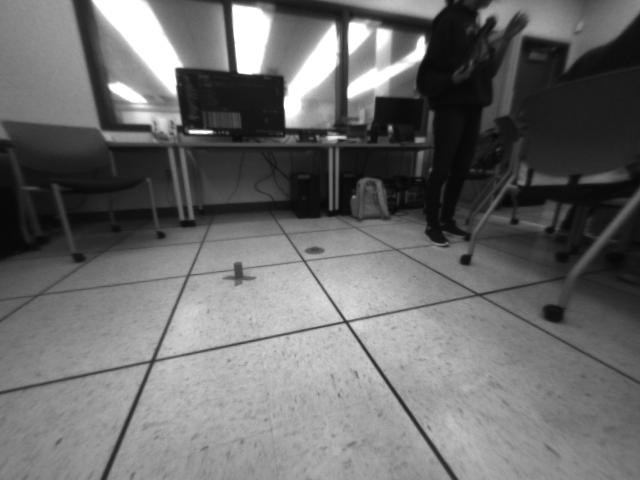X: (221, 261, 257, 287)
